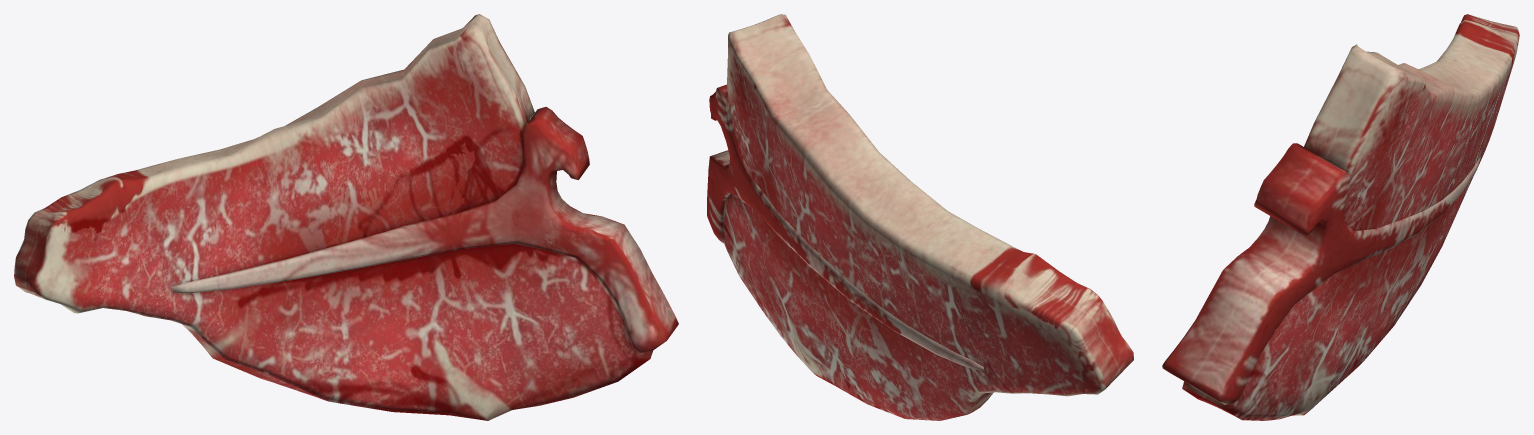
Rendered from meat_ribs.glb.
The picture shows the model from 3 angles, left to right: view 1: azimuth 30°, elevation 25°; view 2: azimuth 150°, elevation 25°; view 3: azimuth 270°, elevation 25°; orthographic projection. The views are drawn at different scales.
Parts seen in each view (by area): view 1: Meat_Rib_0; view 2: Meat_Rib_0; view 3: Meat_Rib_0.
Boxes of the visible parts, x1,y1,x2,y2 form: Meat_Rib_0: (14, 14, 678, 420); Meat_Rib_0: (707, 14, 1133, 420); Meat_Rib_0: (1162, 14, 1519, 420).
Size of the model in its own units: 56.85 by 37.86 by 32.81.
1 material, 1 textured.
